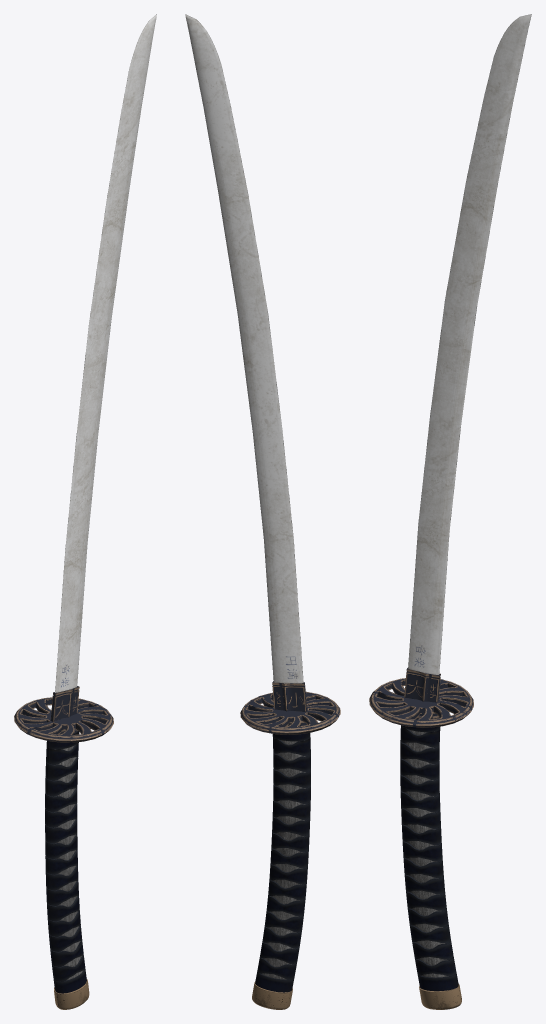
File: Katana_obj.obj
The picture shows the model from 3 angles, left to right: view 1: azimuth 30°, elevation 25°; view 2: azimuth 150°, elevation 25°; view 3: azimuth 330°, elevation 25°; orthographic projection. The views are drawn at different scales.
Visible parts, largest first — view 1: Object4_low.002; view 2: Object4_low.002; view 3: Object4_low.002.
Part boxes in pixels (left/top/right/bottom): Object4_low.002: left=14, top=14, right=156, bottom=1009; Object4_low.002: left=185, top=14, right=340, bottom=1009; Object4_low.002: left=369, top=14, right=531, bottom=1009.
Size of the model in its own units: 0.1588 by 1.03 by 0.0964.
1 material, 1 textured.
